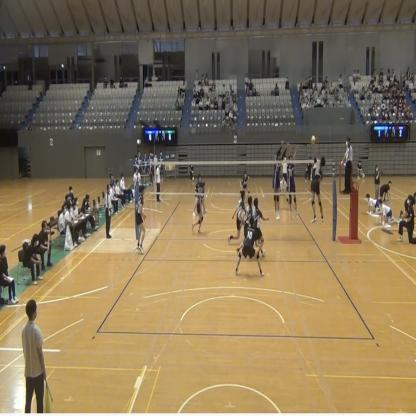spike: (306, 132, 327, 230)
